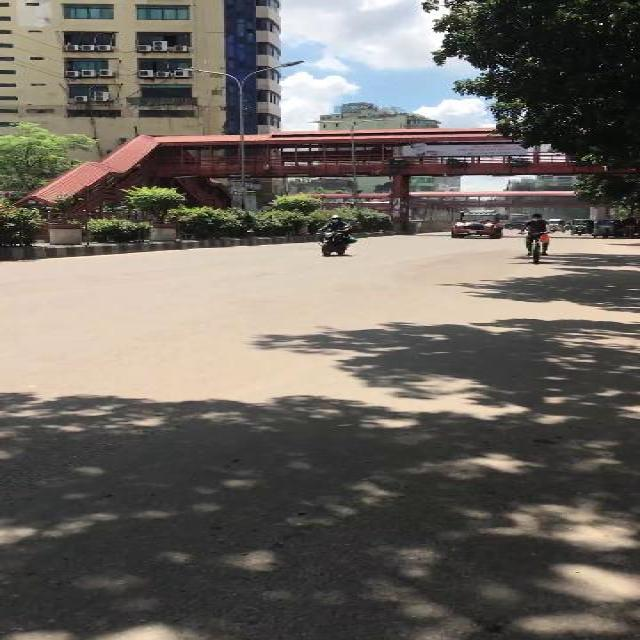10: (316, 212, 356, 255)
15: (448, 208, 501, 238)
17: (593, 218, 619, 238), (568, 218, 591, 236), (546, 216, 564, 232)
Motorcycle: (517, 212, 553, 264)
